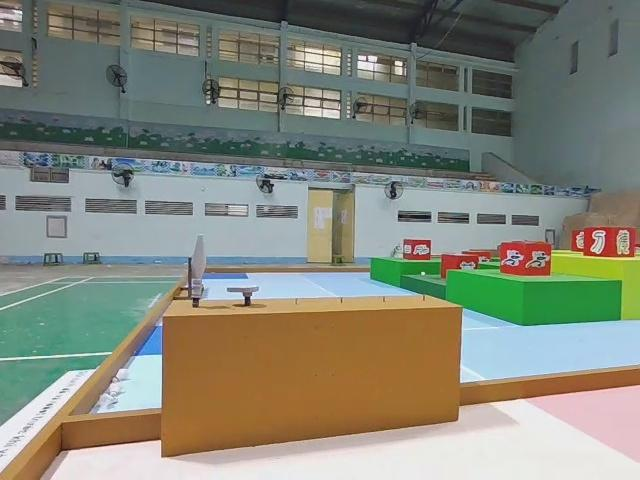Hand: (226, 282, 259, 305)
Sph: (189, 235, 209, 310)
